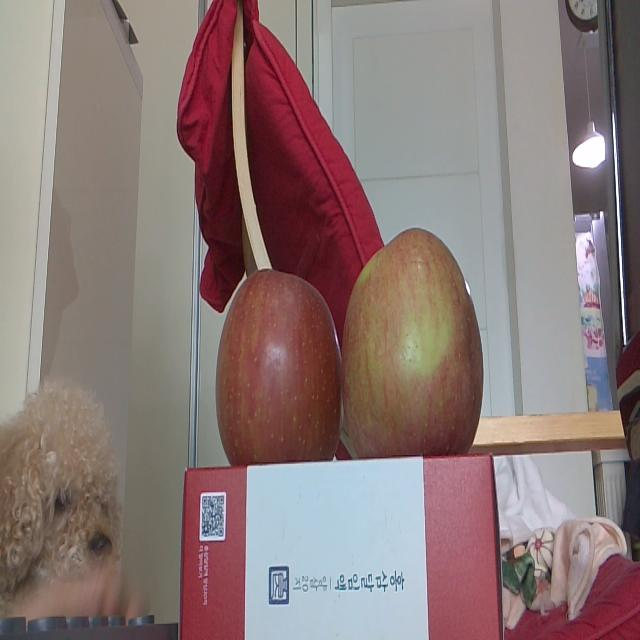apple: (343, 229, 483, 456), (217, 268, 343, 461)
